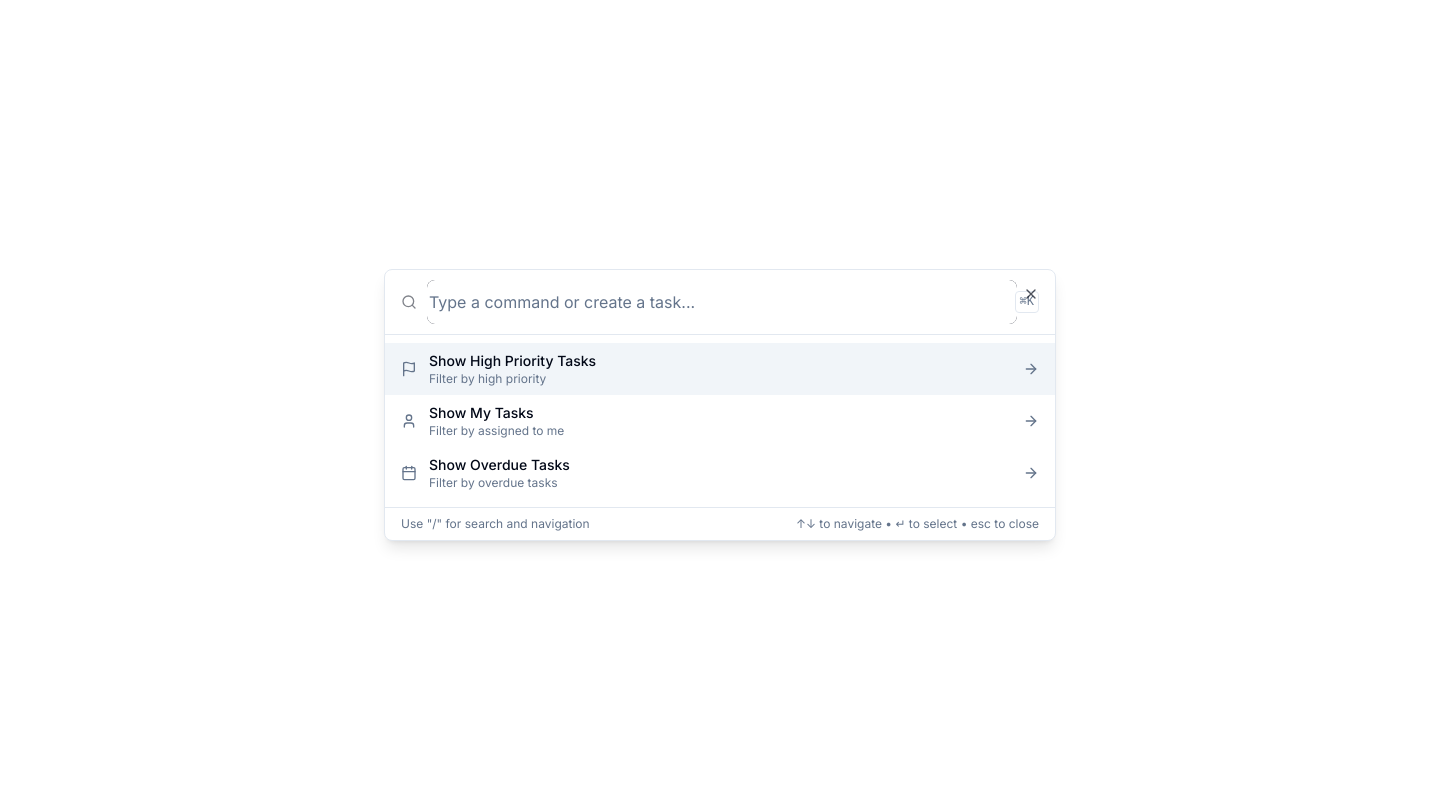
Test: CommandPalette › should search tasks when using "/" prefix
The image size is (1440, 810).
Type "/login" into the field with placeholder "Type a command or create a task..." at (722, 302), box x1=429 y1=282 x2=1015 y2=322
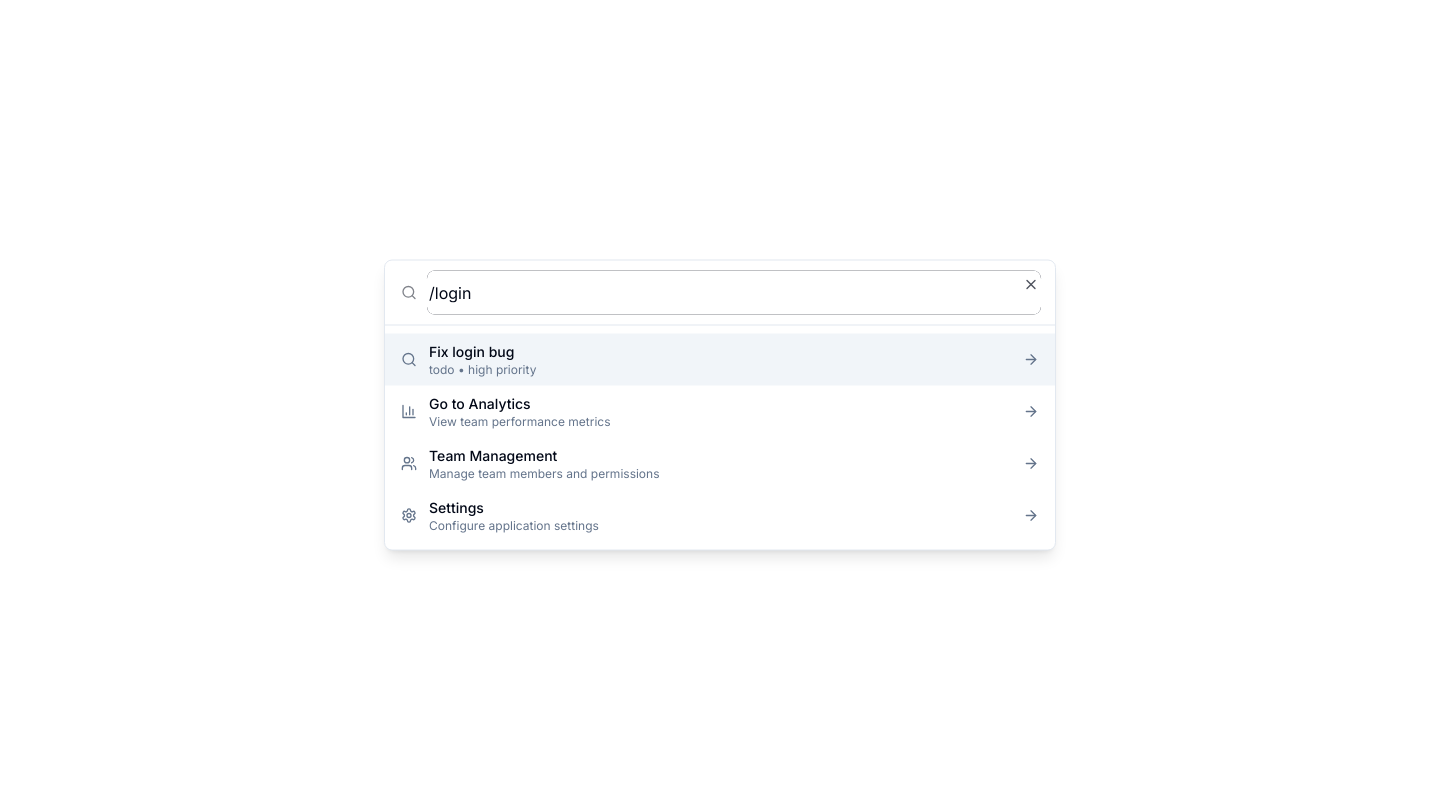
Expected: the text "Fix login bug" is shown, x1=429 y1=342 x2=514 y2=360
Expected: the text "todo • high priority" is shown, x1=429 y1=362 x2=536 y2=376
